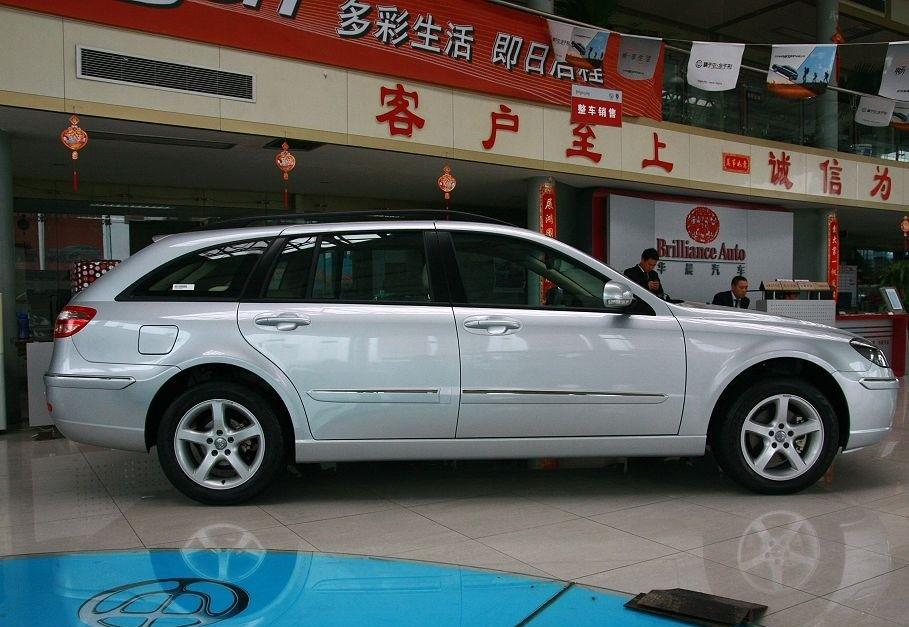Wagon: (45, 222, 900, 508)
